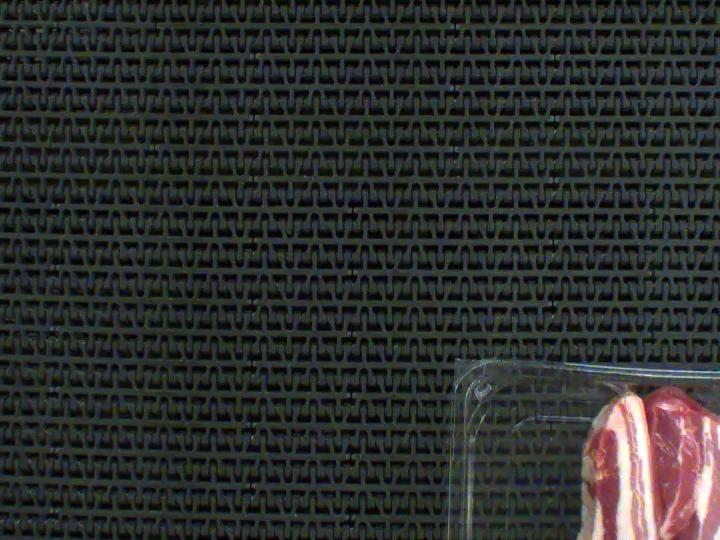packaging-error: (570, 343, 720, 444)
